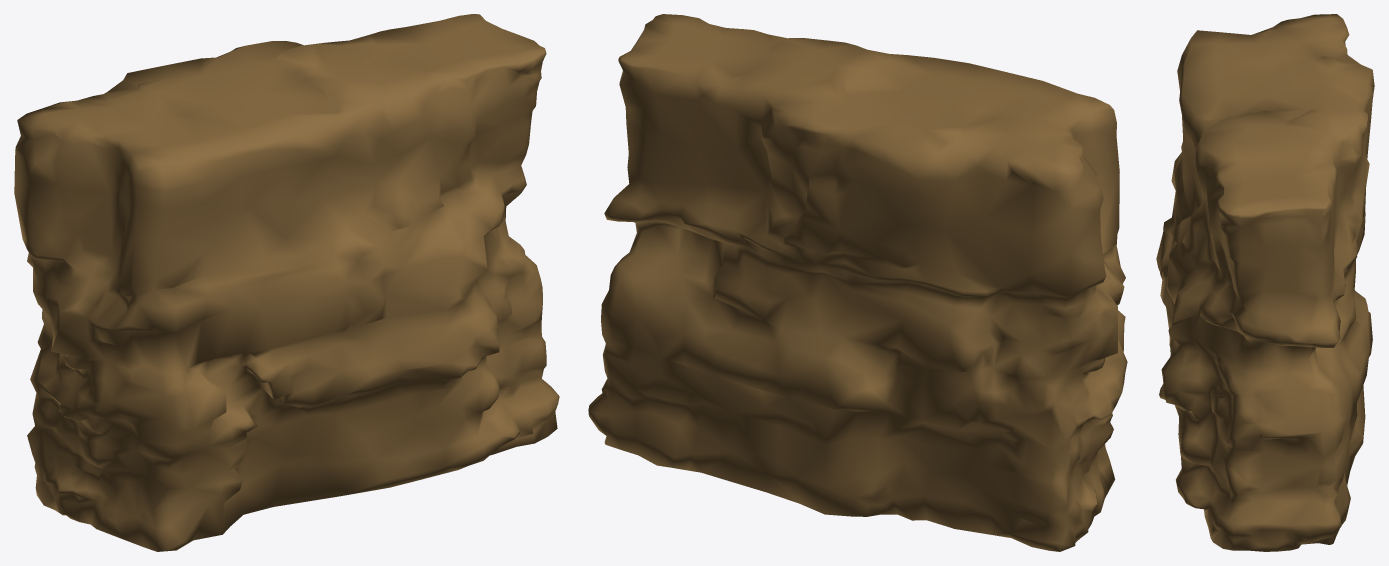
File: MSH_Rocks_Cliff_14_a.FBX
3 views of the same model, side by side, from view 1: azimuth 30°, elevation 25°; view 2: azimuth 150°, elevation 25°; view 3: azimuth 270°, elevation 25° (orthographic). The views are drawn at different scales.
Parts seen in each view (by area): view 1: MESH_LOD0; view 2: MESH_LOD0; view 3: MESH_LOD0.
Part boxes in pixels (<box>): MESH_LOD0: <box>14,14,559,551</box>; MESH_LOD0: <box>588,14,1127,551</box>; MESH_LOD0: <box>1156,14,1374,551</box>.
Size of what is drawn, in the model's own units: 498 by 382 by 216.
